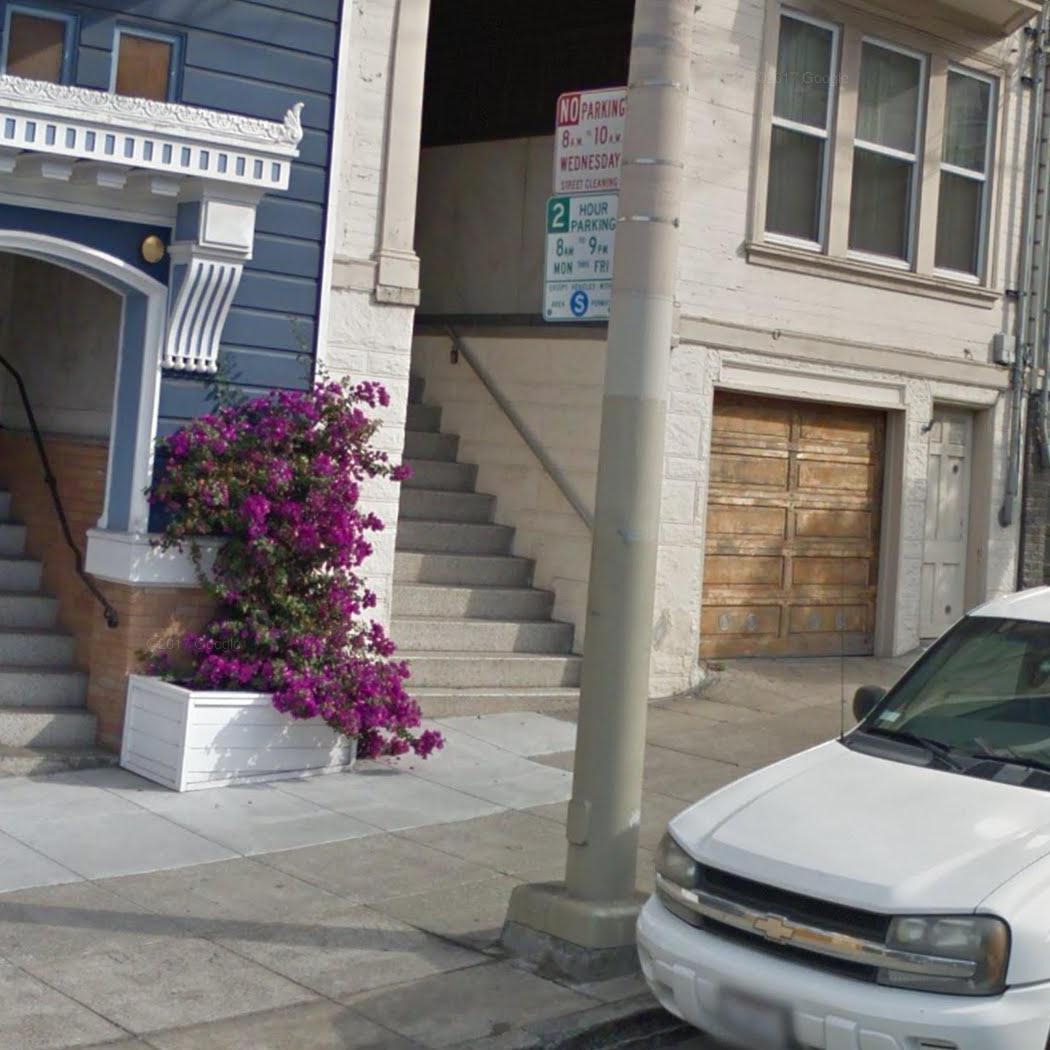2 Hour Parking: (547, 198, 615, 314)
No Parking: (552, 92, 624, 198)
